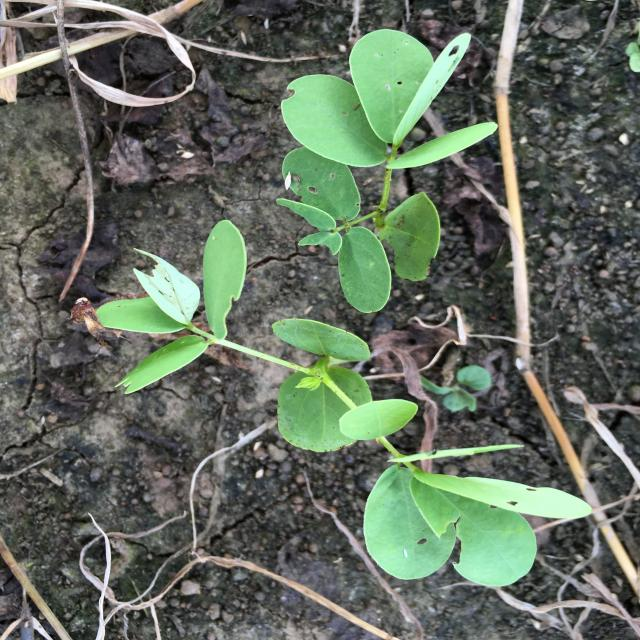Sicklepod: (96, 220, 592, 587), (276, 29, 499, 314)
